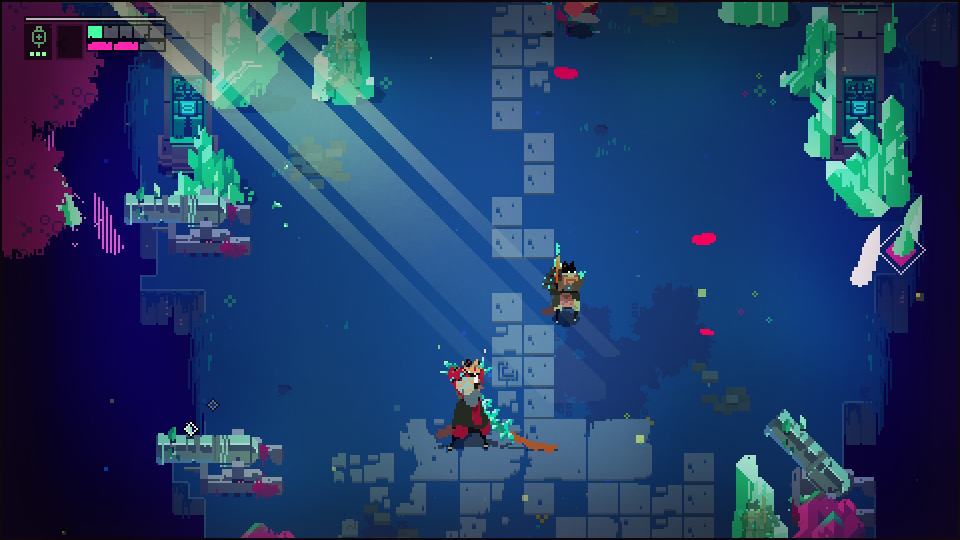hanged_man: (435, 355, 513, 442)
